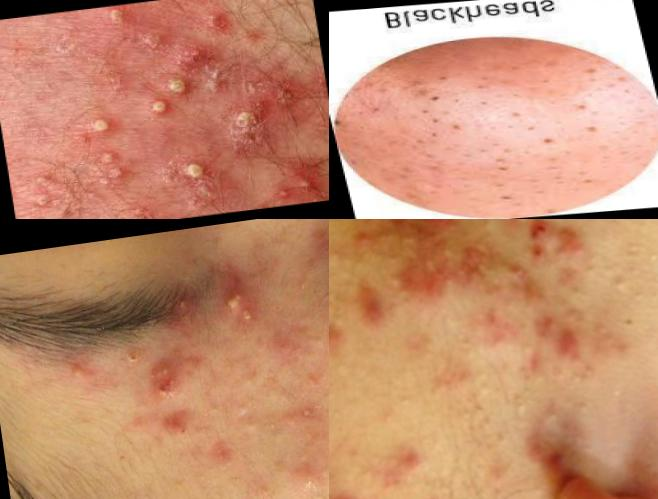blackhead: (418, 109, 478, 145), (471, 154, 545, 182), (466, 68, 513, 92), (490, 191, 526, 213), (576, 121, 620, 139), (564, 95, 601, 115), (531, 132, 563, 155), (421, 85, 449, 109), (504, 103, 536, 122)
folliculitis: (89, 144, 149, 193), (165, 150, 222, 192), (27, 167, 66, 216), (77, 111, 128, 147), (160, 70, 198, 103), (143, 93, 176, 124), (292, 401, 324, 429), (103, 4, 132, 27)
papular: (374, 431, 434, 477), (350, 281, 396, 332), (196, 4, 250, 40), (157, 403, 200, 444), (553, 330, 593, 372), (533, 443, 576, 480), (521, 220, 554, 260), (405, 220, 459, 241), (558, 227, 590, 259), (299, 468, 329, 498), (330, 321, 351, 357), (330, 481, 371, 499)
purulent: (283, 167, 327, 203), (64, 358, 93, 391)
sebo-crystan-conglo: (217, 96, 284, 164), (139, 350, 191, 394), (220, 282, 253, 320)
whitehead: (230, 391, 265, 444), (596, 257, 638, 298), (504, 384, 536, 429), (534, 402, 572, 431), (566, 390, 598, 423), (201, 391, 227, 423), (466, 412, 495, 438), (640, 230, 658, 271), (471, 220, 506, 231)
